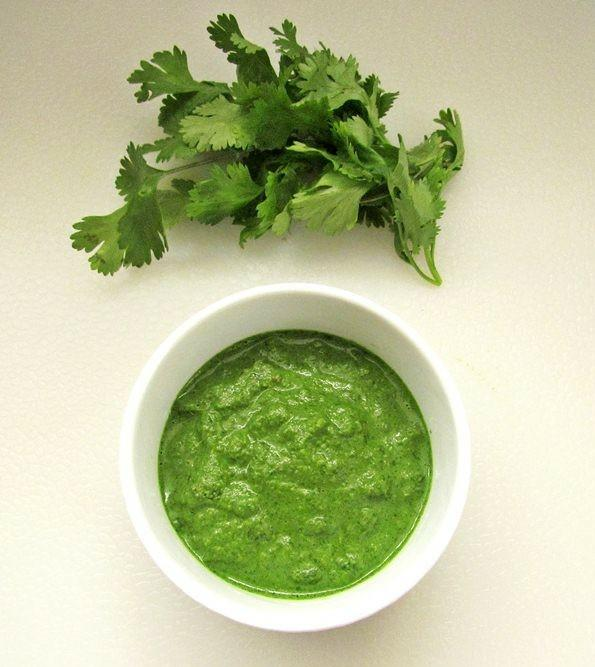GreenChutney: (159, 330, 432, 597)
